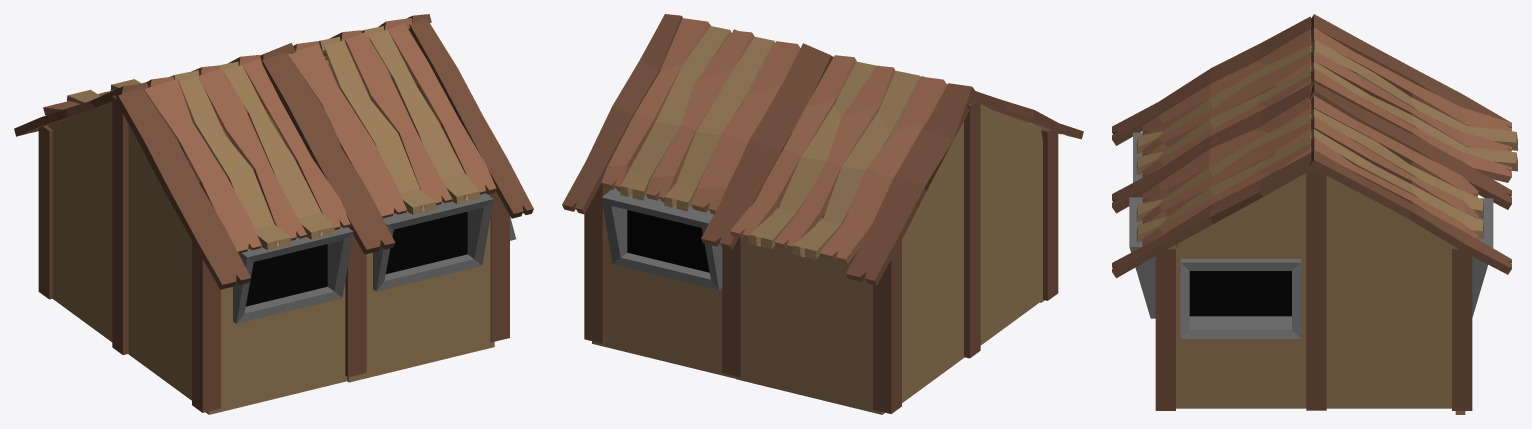
Rendered from Seperated_Crafter.fbx.
3 views of the same model, side by side, from view 1: azimuth 30°, elevation 25°; view 2: azimuth 150°, elevation 25°; view 3: azimuth 270°, elevation 25° (orthographic). The views are drawn at different scales.
Visible parts, largest first — view 1: crafter.010, crafter.003, crafter.002, crafter.001, crafter.029, crafter.023, crafter.022, crafter.017, crafter.028, crafter.027, crafter.021, crafter.026 (+12 smaller); view 2: crafter.012, crafter.014, crafter.001, crafter.002, crafter.042, crafter.036, crafter.041, crafter.030, crafter.035, crafter.040, crafter.039, crafter.037 (+11 smaller); view 3: crafter.008, crafter.009, crafter.004, crafter.030, crafter.017, crafter.036, crafter.005, crafter.013, crafter.029, crafter.023, crafter.041, crafter.042 (+21 smaller).
Part boxes in pixels (bbox=[...]): crafter.010: bbox=[347, 193, 494, 382]; crafter.003: bbox=[206, 226, 353, 414]; crafter.002: bbox=[48, 102, 112, 341]; crafter.001: bbox=[128, 124, 191, 400]; crafter.029: bbox=[116, 87, 250, 289]; crafter.023: bbox=[261, 52, 395, 254]; crafter.022: bbox=[288, 44, 407, 218]; crafter.017: bbox=[408, 18, 533, 218]; crafter.028: bbox=[144, 79, 261, 255]; crafter.027: bbox=[179, 76, 290, 250]; crafter.021: bbox=[324, 40, 436, 214]; crafter.026: bbox=[198, 68, 306, 240]; crafter.012: bbox=[592, 188, 735, 378]; crafter.014: bbox=[736, 207, 884, 414]; crafter.001: bbox=[980, 104, 1042, 345]; crafter.002: bbox=[902, 122, 964, 402]; crafter.042: bbox=[846, 83, 977, 285]; crafter.036: bbox=[701, 43, 832, 250]; crafter.041: bbox=[819, 76, 946, 264]; crafter.030: bbox=[562, 14, 682, 214]; crafter.035: bbox=[691, 41, 800, 214]; crafter.040: bbox=[792, 71, 921, 259]; crafter.039: bbox=[774, 65, 895, 250]; crafter.037: bbox=[730, 55, 856, 239]; crafter.008: bbox=[1176, 173, 1306, 408]; crafter.009: bbox=[1326, 175, 1453, 408]; crafter.004: bbox=[1306, 168, 1326, 410]; crafter.030: bbox=[1309, 149, 1511, 274]; crafter.017: bbox=[1112, 153, 1313, 278]; crafter.036: bbox=[1309, 82, 1511, 209]; crafter.005: bbox=[1155, 245, 1175, 410]; crafter.013: bbox=[1452, 246, 1472, 410]; crafter.029: bbox=[1112, 16, 1311, 145]; crafter.023: bbox=[1112, 84, 1312, 213]; crafter.041: bbox=[1311, 27, 1511, 131]; crafter.042: bbox=[1311, 14, 1511, 128].
Size of the model in its own units: 322 by 254 by 355.
